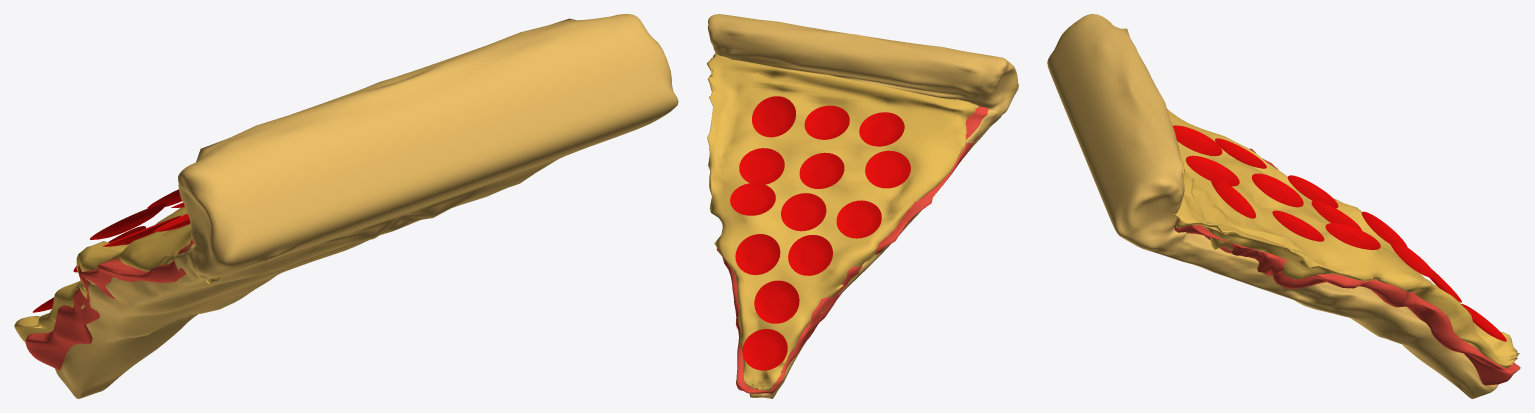
Rendered from pizza.glb.
3 renders of one model, left to right at view 1: azimuth 30°, elevation 25°; view 2: azimuth 150°, elevation 25°; view 3: azimuth 270°, elevation 25°, orthographic. The views are drawn at different scales.
Parts seen in each view (by area): view 1: Crust, Cheese, Sauce; view 2: Cheese, Crust, Sauce; view 3: Crust, Cheese, Sauce.
Boxes of the visible parts, <box> form: Crust: <box>55,14,678,398</box>; Cheese: <box>14,189,220,341</box>; Sauce: <box>25,239,266,370</box>; Cheese: <box>707,53,981,391</box>; Crust: <box>707,14,1018,398</box>; Sauce: <box>709,106,989,393</box>; Crust: <box>1047,14,1498,398</box>; Cheese: <box>1167,109,1519,367</box>; Sauce: <box>1174,148,1520,385</box>.
Bounding box in the file's own units: 2.59 × 2.29 × 2.98.
